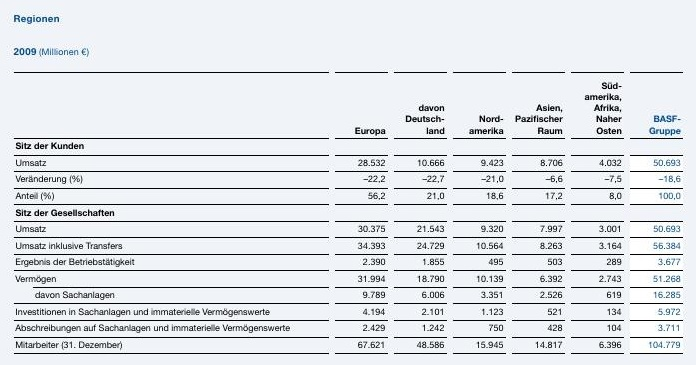table: (0, 0, 696, 365)
